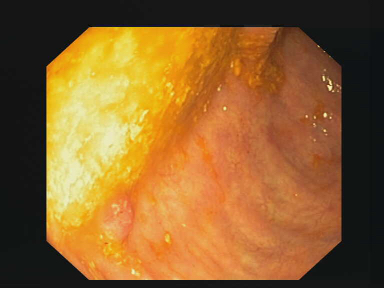polyp: (104, 189, 137, 248)
